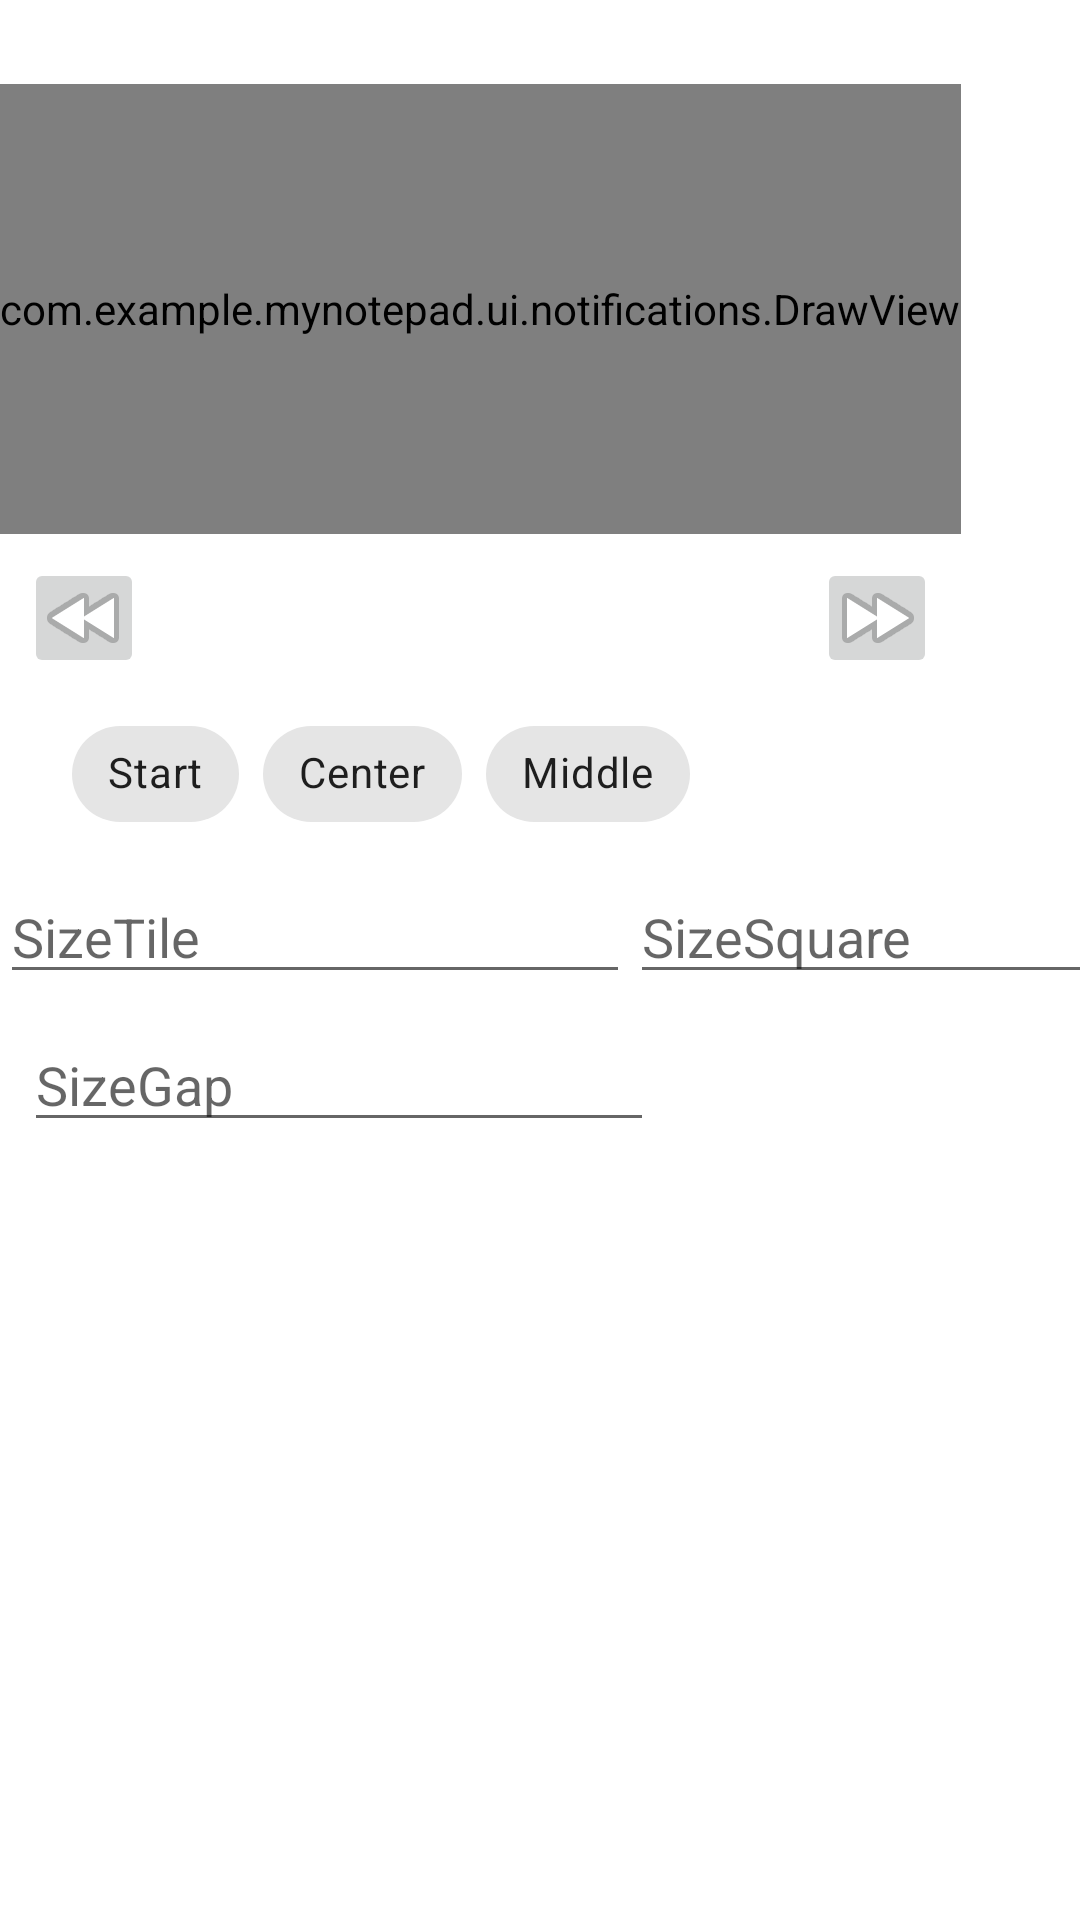

Point at icon controls on the screen. Image size 1080*1920, points as point (x, y).
rew: point (84, 618)
